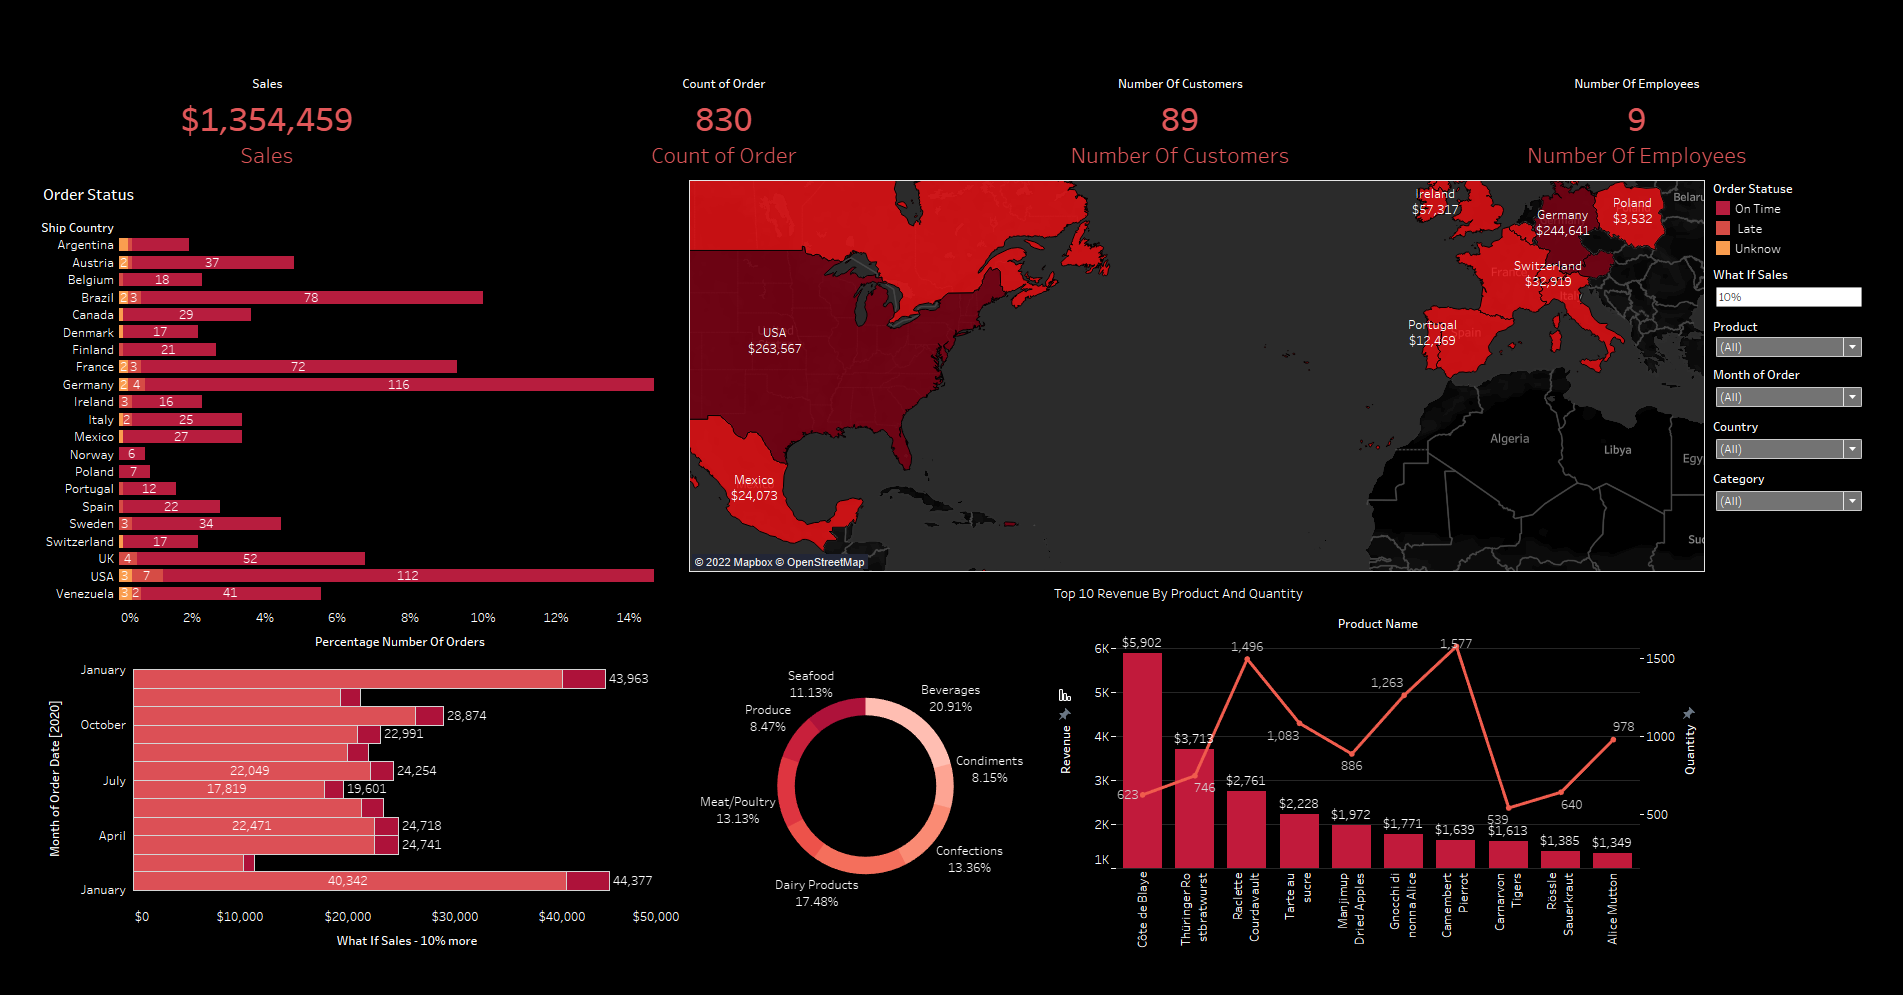

The page's visual inventory and layout, read from the dashboard file:
{"tool":"tableau","page":{"name":"Dashboard 1","canvas":[1850,900],"ordinal":0},"visuals":[{"type":"worksheet","title":"Sheet 6","mark":"Automatic","box":[8,8,1674,124]},{"type":"dashboard-object","box":[1623.7,8,26.1,24]},{"type":"parameter","param":"[Parameters].[Parameter 1]","box":[1682,8,160,52]},{"type":"filter","title":"Revenue By Country","param":"[federated.09u0osi0tqk4v61en2fu90kzic1l].[none:ShipCountry:nk]","box":[1682,60,160,52]},{"type":"filter","title":"Revenue By Country","param":"[federated.09u0osi0tqk4v61en2fu90kzic1l].[none:CategoryName:nk]","box":[1682,112,160,52]},{"type":"worksheet","title":"Revenue By Country","mark":"Automatic","rows":["ShipCountry"],"cols":["UnitPrice"],"box":[8,132,649.6,377]},{"type":"worksheet","title":"Map","mark":"Automatic","box":[657.6,132,1024.4,391.2]},{"type":"filter","title":"Top 10 Revenue By Product And Quantity","param":"[federated.09u0osi0tqk4v61en2fu90kzic1l].[none:ProductName:nk]","box":[1682,164,160,48]},{"type":"filter","title":"What If ","param":"[federated.09u0osi0tqk4v61en2fu90kzic1l].[mn:OrderDate:ok]","box":[1682,212,160,52]},{"type":"worksheet","title":"What If ","mark":"Bar","rows":["OrderDate"],"cols":["Calculation_1404841657970921486","Calculation_1404841657926656001"],"box":[8,509,649.6,383]},{"type":"worksheet","title":"Pae Category","mark":"Pie","rows":["Calculation_1425389329390174222","Calculation_1425389329390174222"],"box":[657.6,523.2,361,368.8]},{"type":"worksheet","title":"Top 10 Revenue By Product And Quantity","mark":"Automatic","rows":["UnitPrice","Quantity"],"cols":["ProductName"],"box":[1018.6,523.2,663.4,368.8]}]}

Visuals, with their boxes on the page's 1850x900 design canvas (x1, y1, x2, y2). These are canvas units, not pixel positions in the 1903x995 screenshot, which may show the page scaled, cropped or inside an application window:
"Sheet 6" worksheet: locate(8, 8, 1682, 132)
dashboard-object: locate(1624, 8, 1650, 32)
parameter: locate(1682, 8, 1842, 60)
"Revenue By Country" filter: locate(1682, 60, 1842, 112)
"Revenue By Country" filter: locate(1682, 112, 1842, 164)
"Revenue By Country" worksheet: locate(8, 132, 658, 509)
"Map" worksheet: locate(658, 132, 1682, 523)
"Top 10 Revenue By Product And Quantity" filter: locate(1682, 164, 1842, 212)
"What If " filter: locate(1682, 212, 1842, 264)
"What If " worksheet (Bar marks): locate(8, 509, 658, 892)
"Pae Category" worksheet (Pie marks): locate(658, 523, 1019, 892)
"Top 10 Revenue By Product And Quantity" worksheet: locate(1019, 523, 1682, 892)
